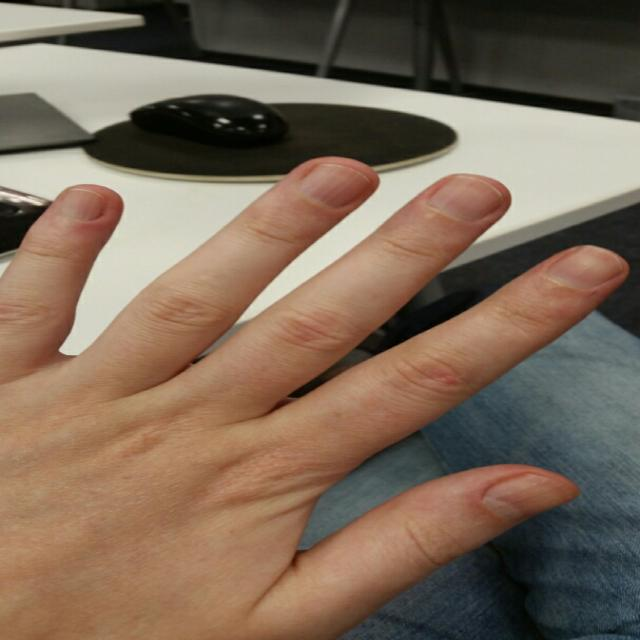Nail: (483, 473, 577, 520), (428, 176, 502, 219), (549, 245, 623, 288), (300, 164, 371, 207), (60, 189, 106, 221)
